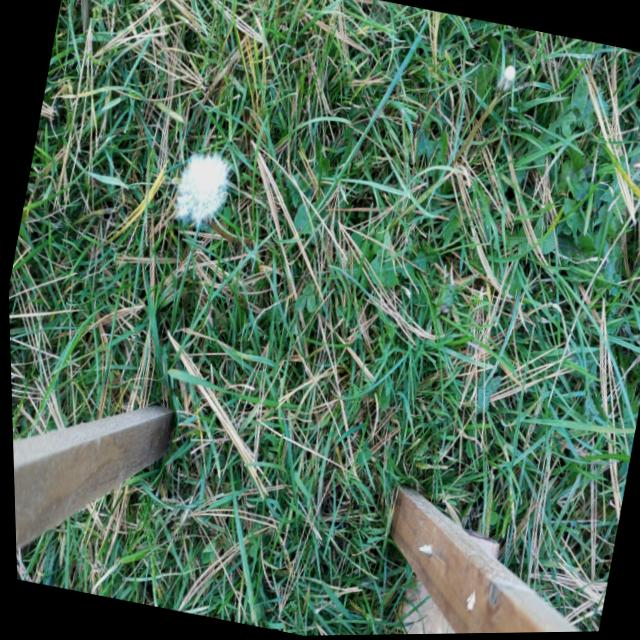base: (433, 154, 459, 192), (234, 223, 260, 258)
flower: (169, 147, 231, 228), (495, 62, 517, 95)
